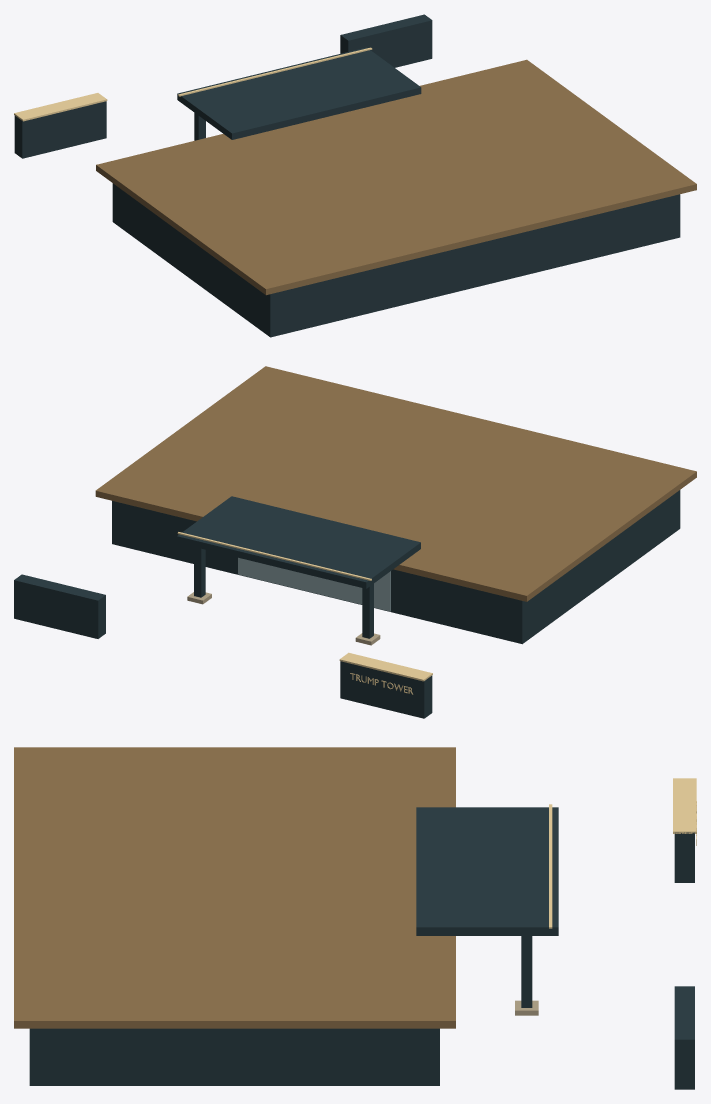
The model's file is KOL_T1_TRUMP__Podium.fbx.
3 views of the same model, one above another, from view 1: azimuth 30°, elevation 25°; view 2: azimuth 150°, elevation 25°; view 3: azimuth 270°, elevation 25° (orthographic). The views are drawn at different scales.
Visible parts, largest first — view 1: KOL_T1_TRUMP__Podium__KOL_T1_Bronze, KOL_T1_TRUMP__Podium__KOL_T1_Graphite, KOL_T1_TRUMP__Podium__KOL_T1_Accent; view 2: KOL_T1_TRUMP__Podium__KOL_T1_Bronze, KOL_T1_TRUMP__Podium__KOL_T1_Graphite, KOL_T1_TRUMP__Podium__KOL_T1_GlassLight, KOL_T1_TRUMP__Podium__KOL_T1_Accent; view 3: KOL_T1_TRUMP__Podium__KOL_T1_Bronze, KOL_T1_TRUMP__Podium__KOL_T1_Graphite, KOL_T1_TRUMP__Podium__KOL_T1_Accent.
Part boxes in pixels (x1,y1,x2,y2): KOL_T1_TRUMP__Podium__KOL_T1_Bronze: (96, 59, 696, 295); KOL_T1_TRUMP__Podium__KOL_T1_Graphite: (14, 14, 680, 337); KOL_T1_TRUMP__Podium__KOL_T1_Accent: (14, 47, 372, 121); KOL_T1_TRUMP__Podium__KOL_T1_Bronze: (95, 366, 696, 601); KOL_T1_TRUMP__Podium__KOL_T1_Graphite: (14, 490, 680, 718); KOL_T1_TRUMP__Podium__KOL_T1_GlassLight: (238, 557, 390, 611); KOL_T1_TRUMP__Podium__KOL_T1_Accent: (177, 532, 432, 694); KOL_T1_TRUMP__Podium__KOL_T1_Bronze: (14, 747, 455, 1028); KOL_T1_TRUMP__Podium__KOL_T1_Graphite: (29, 807, 694, 1089); KOL_T1_TRUMP__Podium__KOL_T1_Accent: (549, 778, 696, 928).
Size of the model in its own units: 82 by 13.13 by 86.55.
